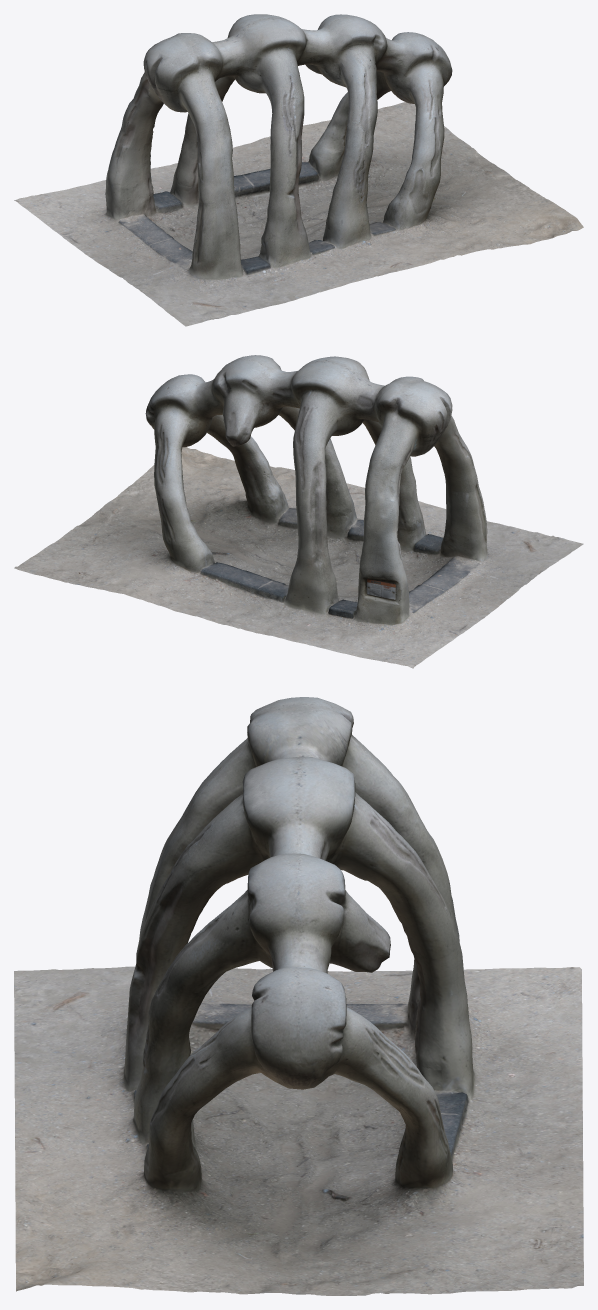
The model's file is ribs_-_park_anthropos.glb.
3 views of the same model, one above another, from view 1: azimuth 30°, elevation 25°; view 2: azimuth 150°, elevation 25°; view 3: azimuth 270°, elevation 25° (orthographic). The views are drawn at different scales.
Parts seen in each view (by area): view 1: zebra; view 2: zebra; view 3: zebra.
Part boxes in pixels (left/top/right/bottom): zebra: left=14, top=14, right=583, bottom=326; zebra: left=14, top=355, right=583, bottom=668; zebra: left=14, top=697, right=583, bottom=1295.
Bounding box in the file's own units: 2.31 × 1.19 × 1.72.
1 material, 1 textured.
